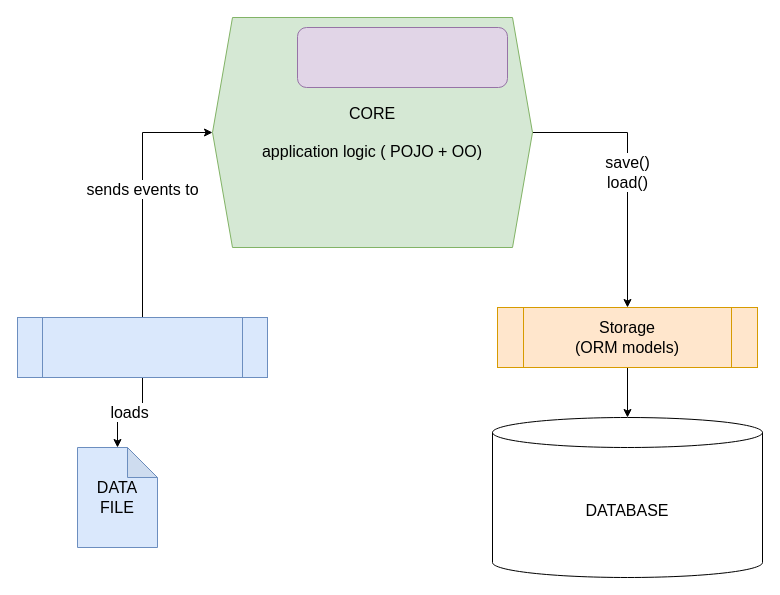
Image size: 780x595. Some labels were removed from this diagram. Each missing label, with the centre of its shape:
"OO Domain Model" belongs at (x=402, y=57).
"PARSER" belongs at (x=142, y=347).
